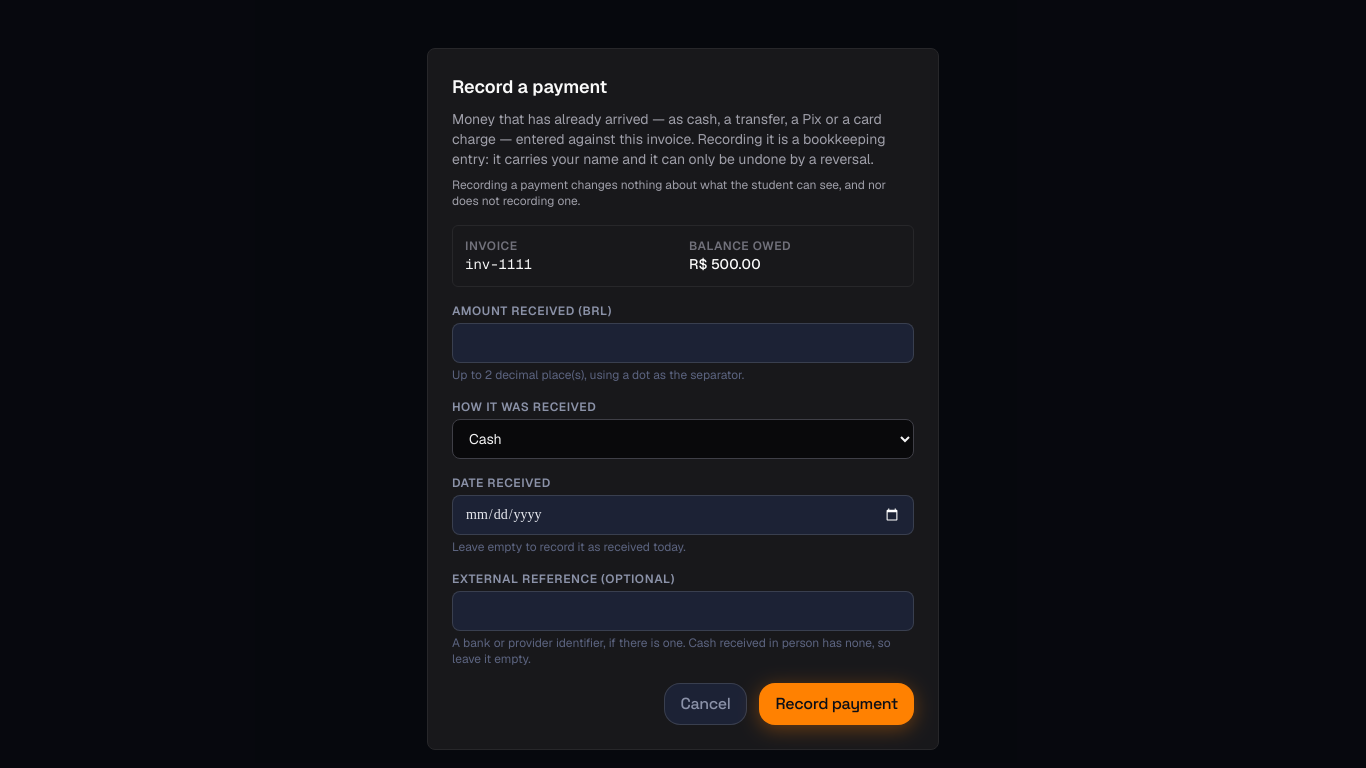
Test case: PaymentForm › surfaces the server's own refusal rather than a generic failure
Type "10" into the field labelled "Amount received (BRL)".
click(683, 343); type("10")  # box [452,323,914,363]
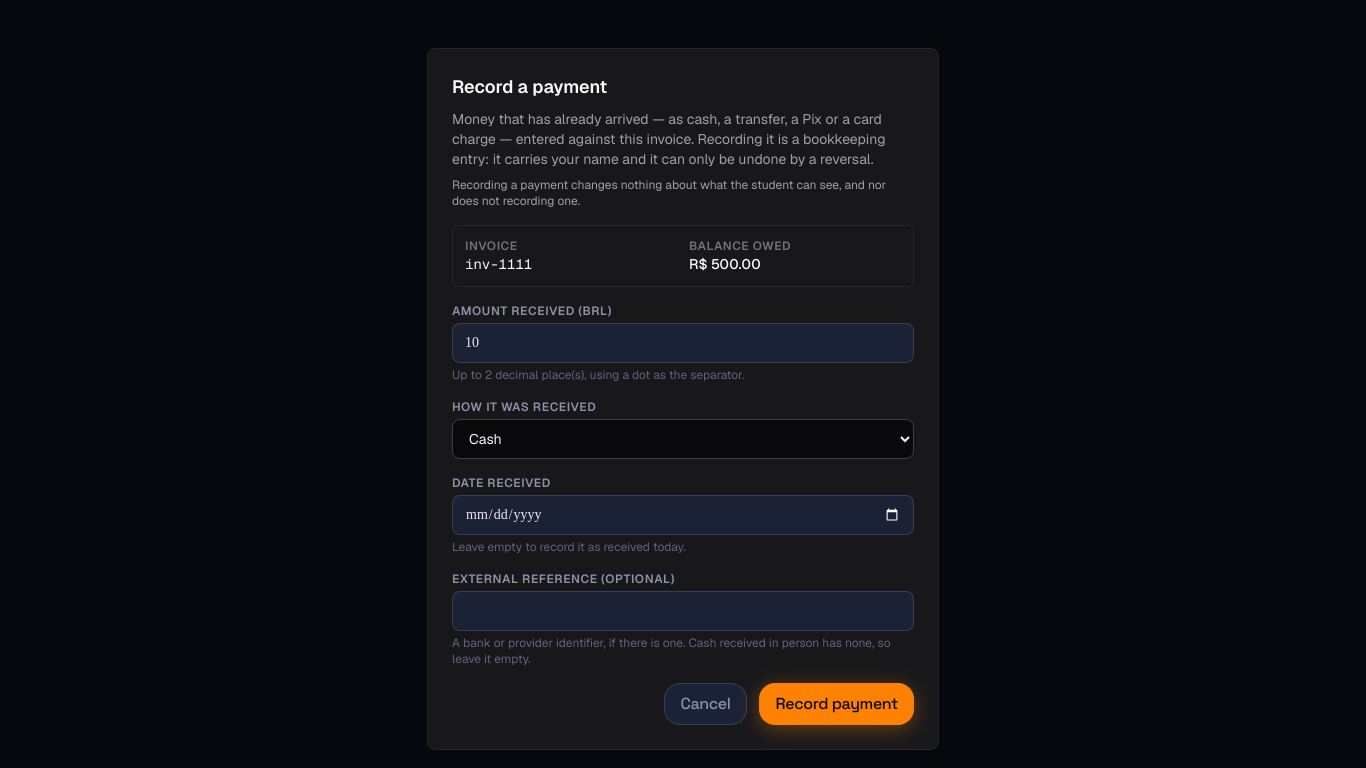
Click the button "Record payment".
click(837, 704)  # box [760,683,914,725]
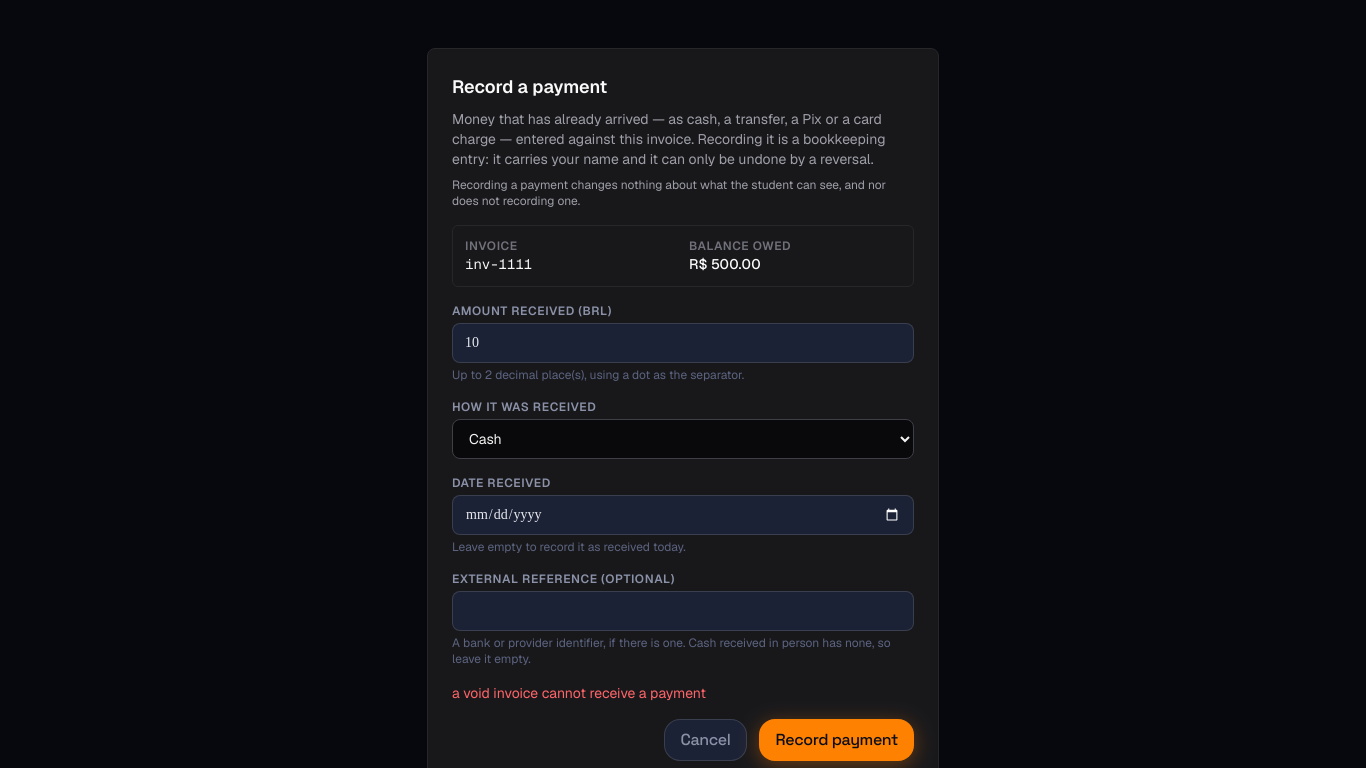
Expected: the text "a void invoice cannot receive a payment" is shown, [452,684,706,702]
